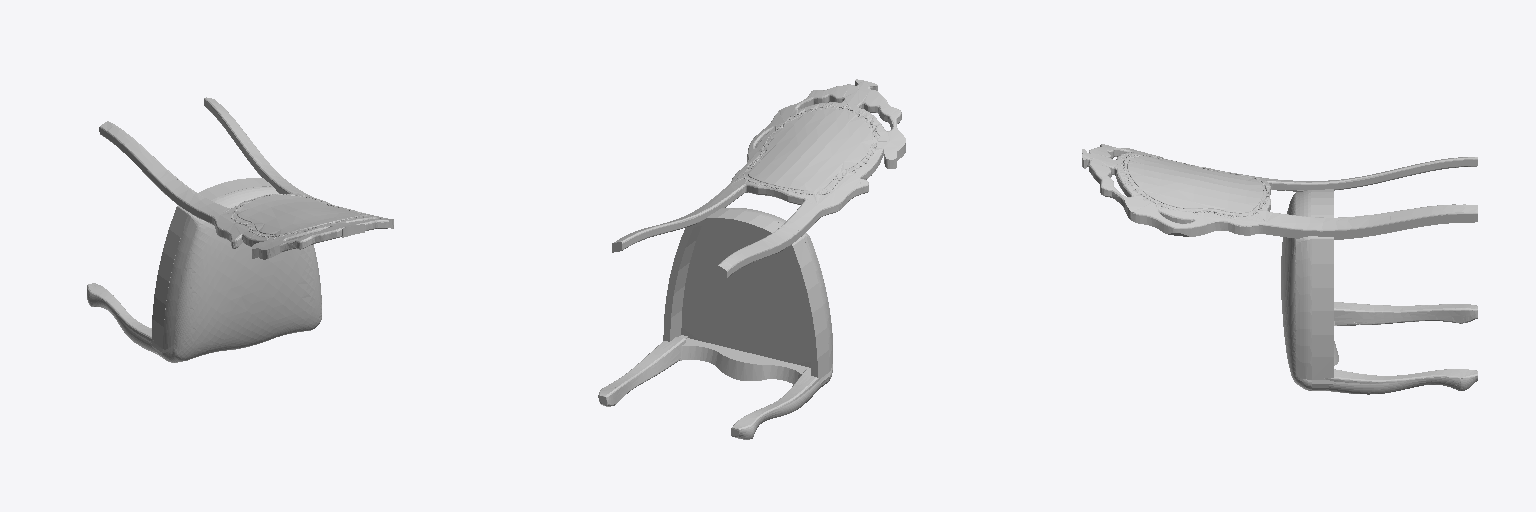
File: chair_0187_Clustering_50pct.obj
3 views of the same model, side by side, from view 1: azimuth 30°, elevation 25°; view 2: azimuth 150°, elevation 25°; view 3: azimuth 270°, elevation 25° (orthographic).
Bounding box in the file's own units: 0.4595 × 0.5714 × 1.